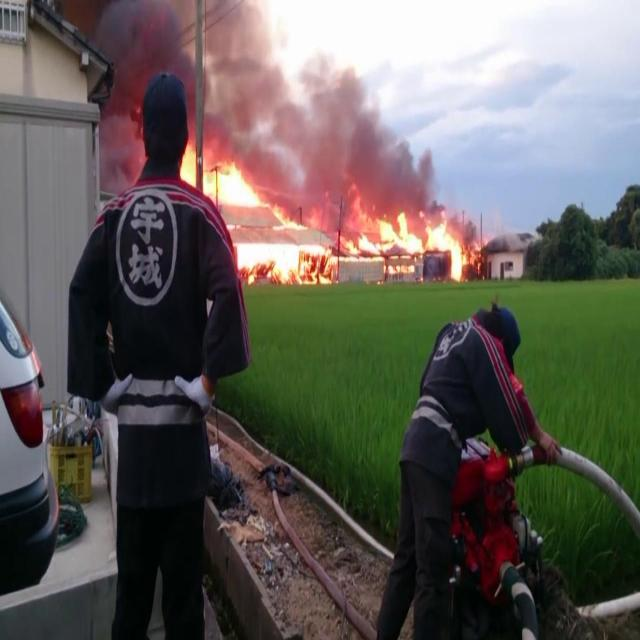Fire: (340, 216, 473, 280), (181, 150, 263, 206), (235, 242, 336, 282), (273, 203, 309, 230)
